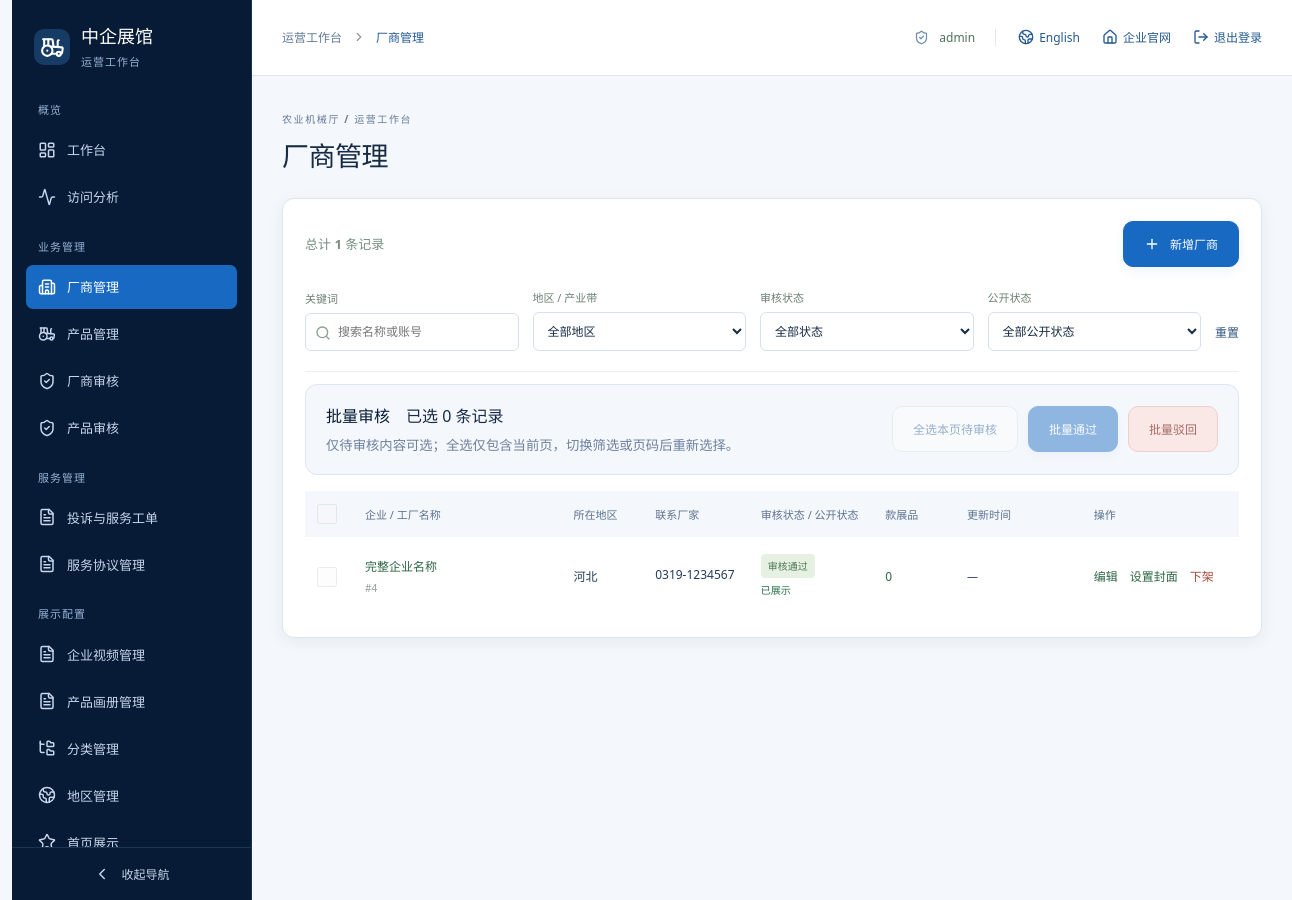
Scenario: administrator cover shortcut expands the brand editor with a read-only draft card preview
(page scrolled)
Click the link "设置封面" at (1154, 576), box left=1130, top=566, right=1178, bottom=586
(page scrolled)
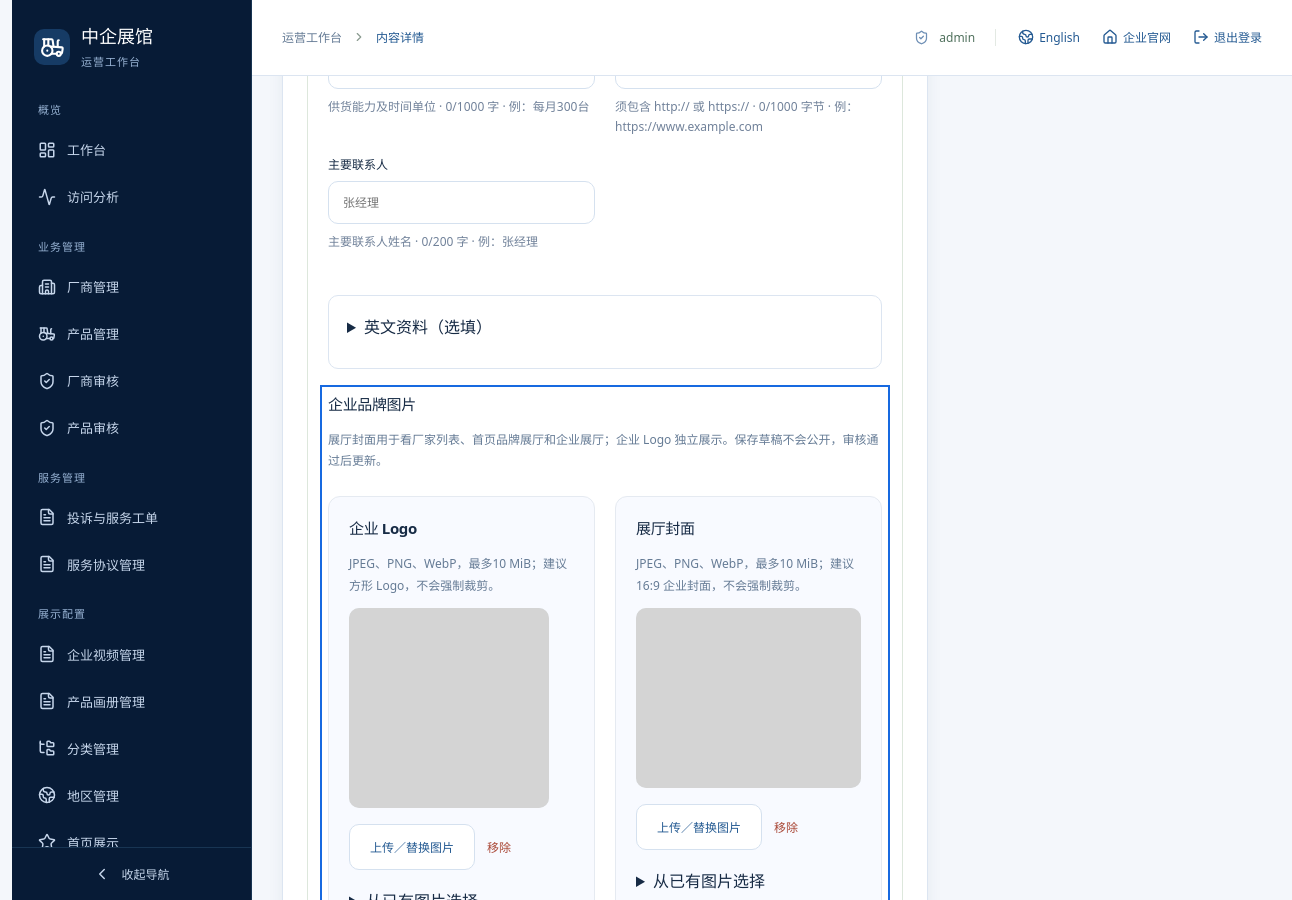
Result: the text "展厅封面用于看厂家列表、首页品牌展厅和企业展厅；企业 Logo 独立展示。保存草稿不会公开，审核通过后更新。" is shown at left=328, top=429, right=882, bottom=472
Result: the link "编辑" is gone
